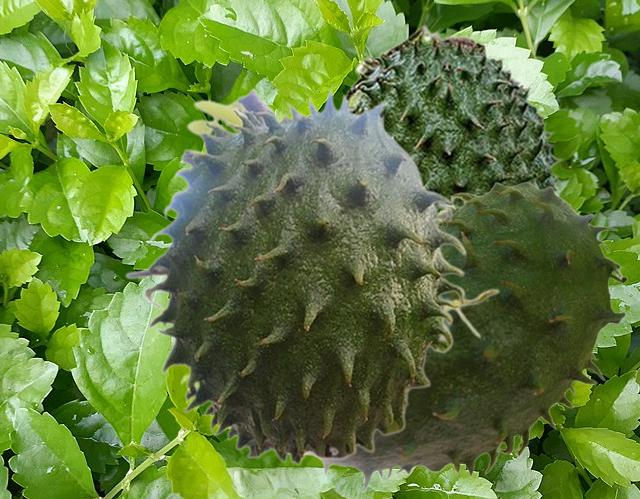guyabano: (124, 84, 500, 466), (306, 181, 627, 493), (339, 23, 567, 205)
